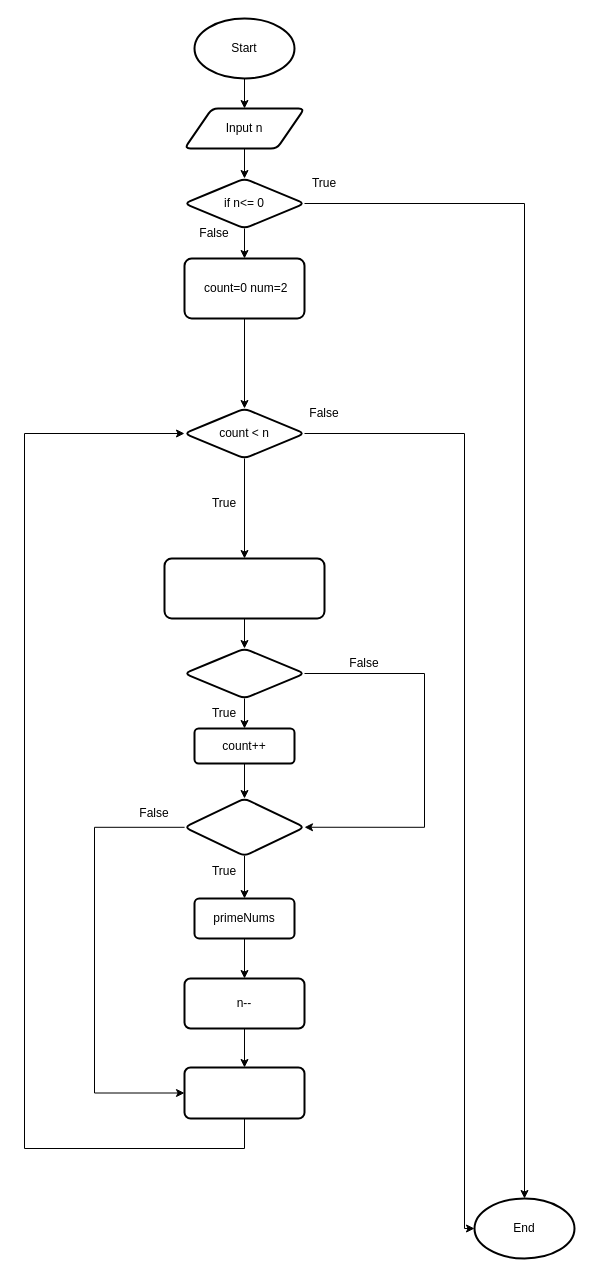
This 593x1276 diagram has some shape labels left out. Here are the shapes that lost their labels. From the top down, the centre of each, then its label:
At (x=244, y=588): "For i =2 , i*i primeNums,i++".
At (x=244, y=673): "num % i == 0".
At (x=244, y=826): "count==0".
At (x=244, y=1092): "premeNums++".
